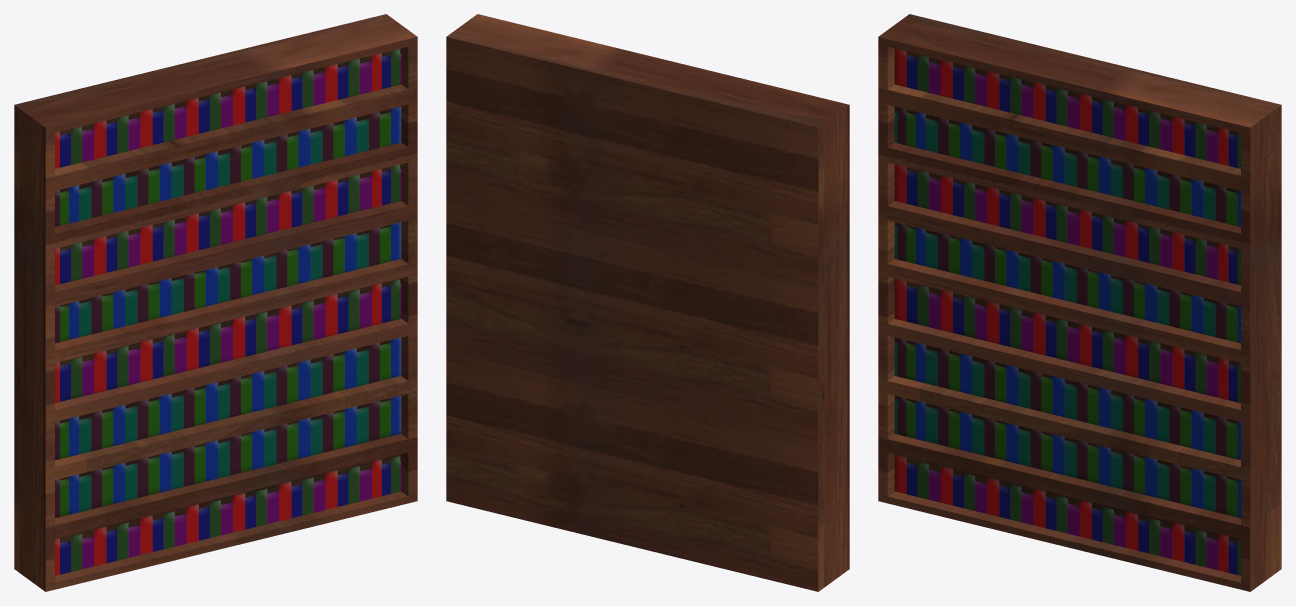
Rendered from bookshelfFBX.fbx.
3 renders of one model, left to right at view 1: azimuth 30°, elevation 25°; view 2: azimuth 150°, elevation 25°; view 3: azimuth 330°, elevation 25°, orthographic.
Parts seen in each view (by area): view 1: pCube1; view 2: pCube1; view 3: pCube1.
Boxes of the visible parts, box(x1,y1,x2,y2) form: pCube1: box(14, 14, 417, 591); pCube1: box(446, 14, 849, 591); pCube1: box(878, 14, 1281, 591).
Bounding box in the file's own units: 6.88 × 8.2 × 1.
Materials: 1 (1 with a texture image).
